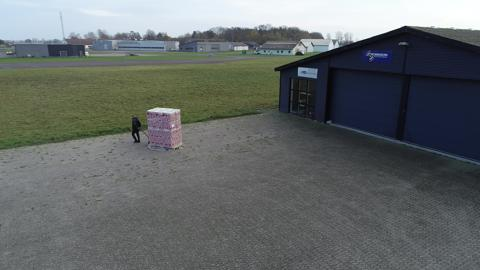RockwoolPallet: (146, 106, 184, 150)
